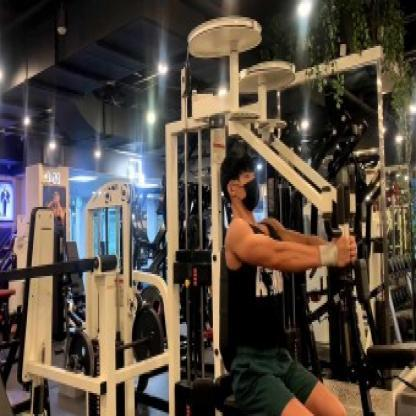chest fly machine: (154, 0, 361, 416)
